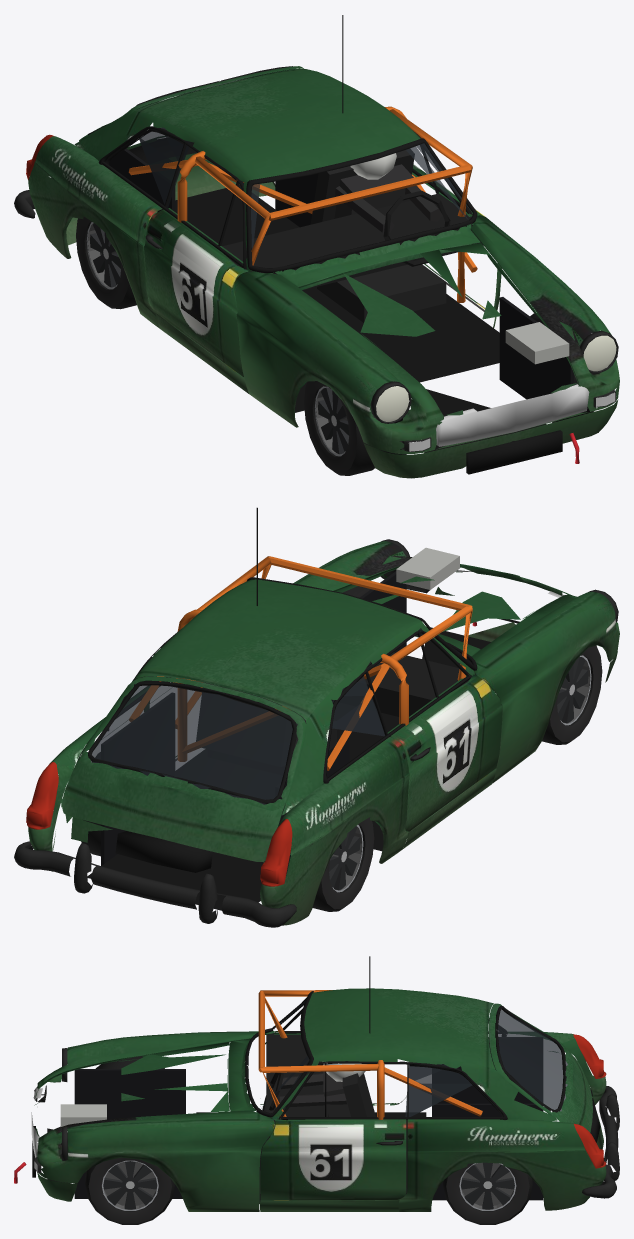
3 renders of one model, top to bottom at view 1: azimuth 30°, elevation 25°; view 2: azimuth 150°, elevation 25°; view 3: azimuth 270°, elevation 25°, orthographic. The views are drawn at different scales.
Visible parts, largest first — view 1: body, wheel_fr, wheel_rr; view 2: body, wheel_fr, wheel_rr; view 3: body, wheel_fl, wheel_rl.
Boxes of the visible parts, x1,y1,x2,y2 form: body: (14,15,619,478); wheel_fr: (304,381,385,475); wheel_rr: (76,217,136,309); body: (14,507,619,927); wheel_fr: (542,645,602,744); wheel_rr: (290,817,374,911); body: (14,956,619,1211); wheel_fl: (85,1157,174,1224); wheel_rl: (443,1162,532,1224).
Bounding box in the file's own units: 1.6 × 1.71 × 3.92.
2 materials, 1 textured.
